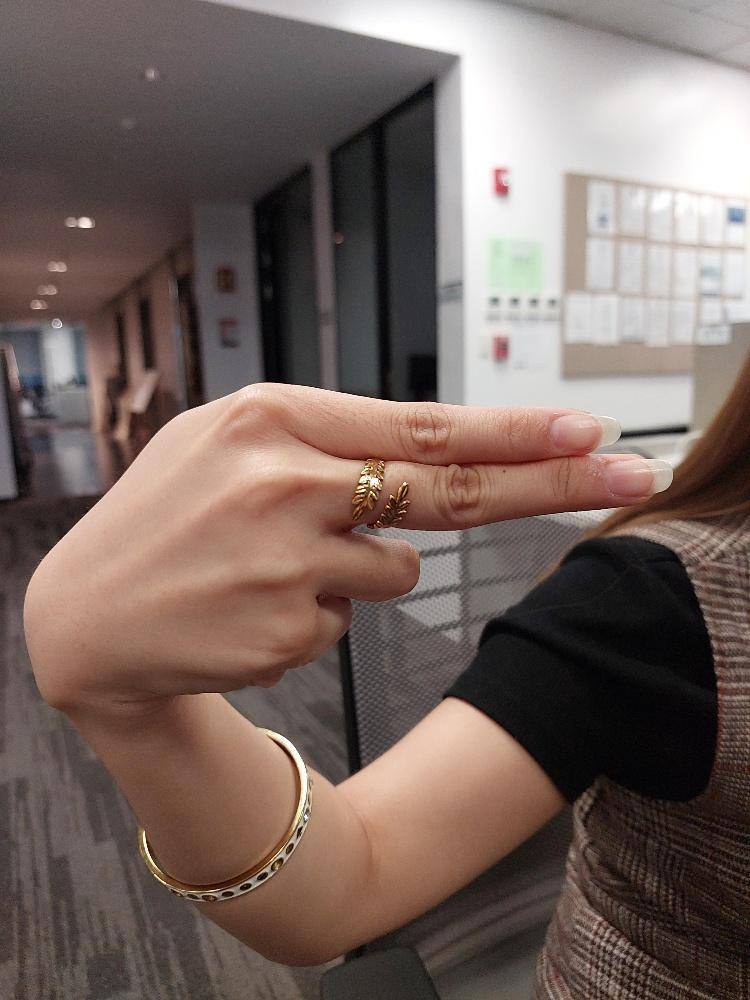h: (18, 376, 675, 701)
